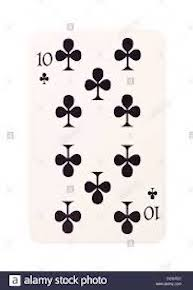TenOfClubs: (24, 28, 169, 246)
